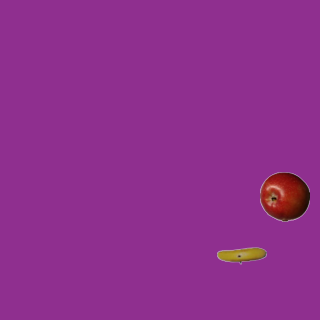Apple Braeburn: (259, 171, 309, 221)
Banana: (216, 230, 266, 280)
